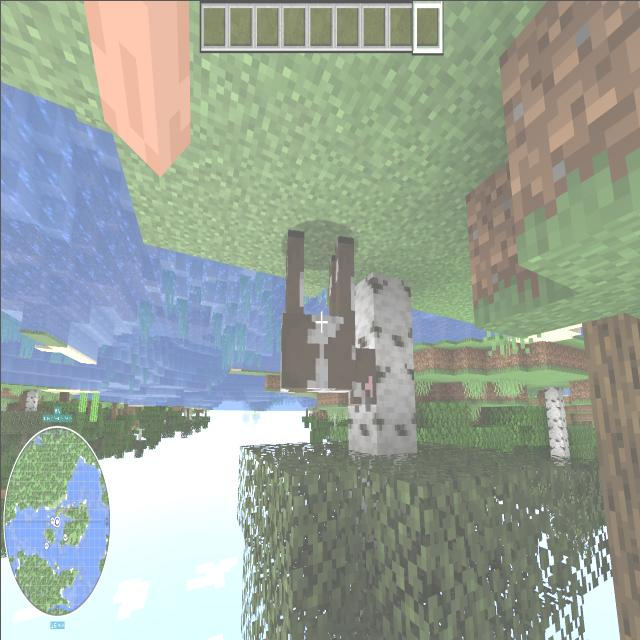cow: (250, 218, 384, 420)
